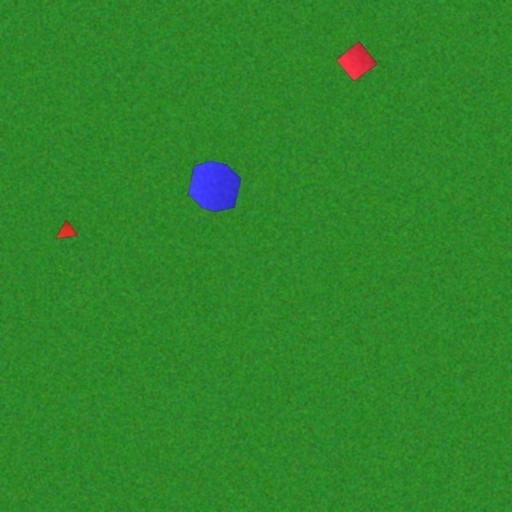RED_SQUARE: (335, 40, 378, 82)
